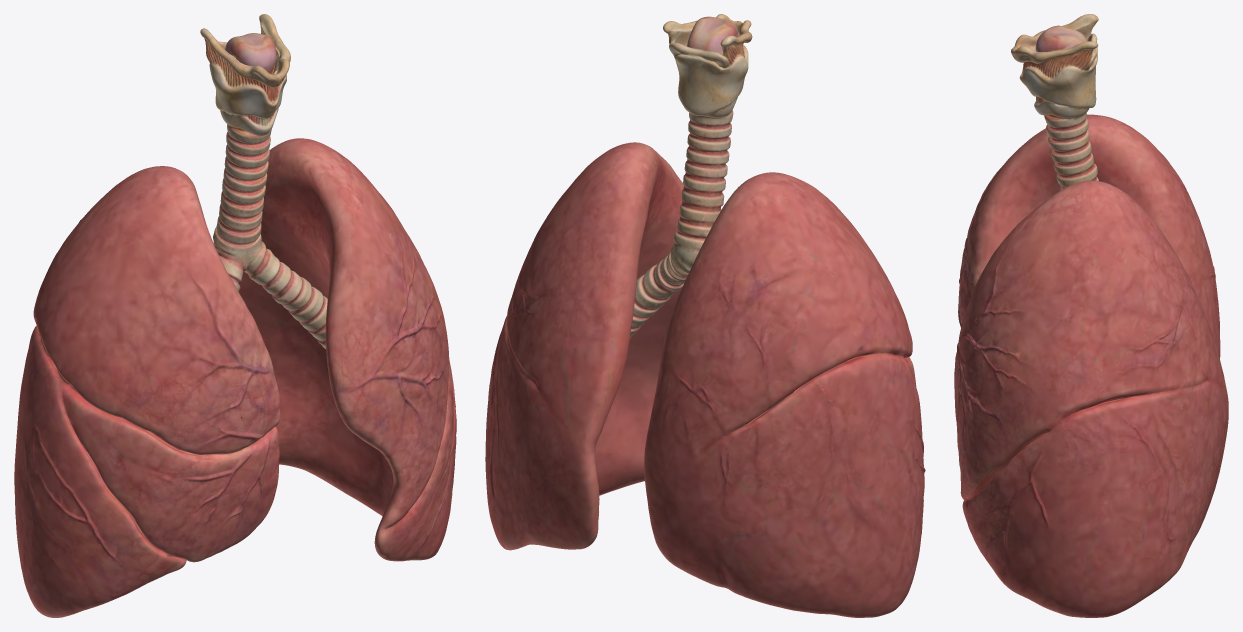
The model's file is pulmones.glb.
3 views of the same model, side by side, from view 1: azimuth 30°, elevation 25°; view 2: azimuth 150°, elevation 25°; view 3: azimuth 270°, elevation 25° (orthographic). The views are drawn at different scales.
Parts seen in each view (by area): view 1: human-lungs; view 2: human-lungs; view 3: human-lungs.
Part boxes in pixels (x1,y1,x2,y2): human-lungs: [14, 14, 456, 617]; human-lungs: [485, 14, 925, 617]; human-lungs: [954, 14, 1228, 617].
Size of the model in its own units: 0.235 by 0.3 by 0.1468.
Materials: 1 (1 with a texture image).
